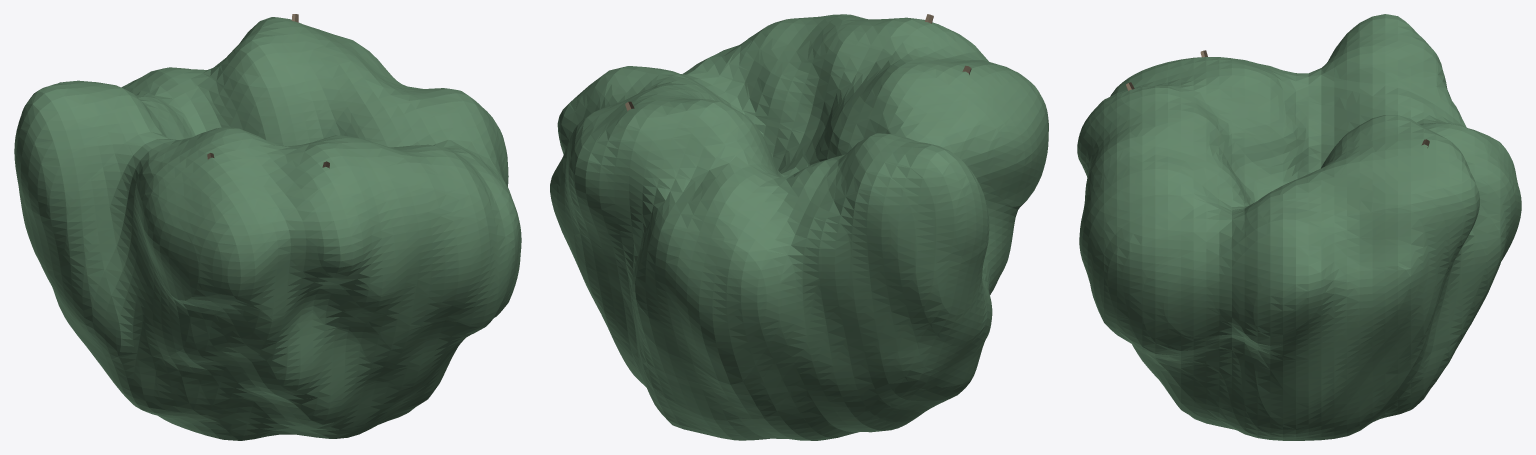
File: taiga_juniper.glb
The picture shows the model from 3 angles, left to right: view 1: azimuth 30°, elevation 25°; view 2: azimuth 150°, elevation 25°; view 3: azimuth 270°, elevation 25°; orthographic projection. The views are drawn at different scales.
Visible parts, largest first — view 1: taiga_juniper; view 2: taiga_juniper; view 3: taiga_juniper.
Boxes of the visible parts, left/top/right/bottom form: taiga_juniper: left=14, top=14, right=521, bottom=440; taiga_juniper: left=550, top=14, right=1048, bottom=440; taiga_juniper: left=1077, top=14, right=1521, bottom=440.
Size of the model in its own units: 1.68 by 1.16 by 1.59.
